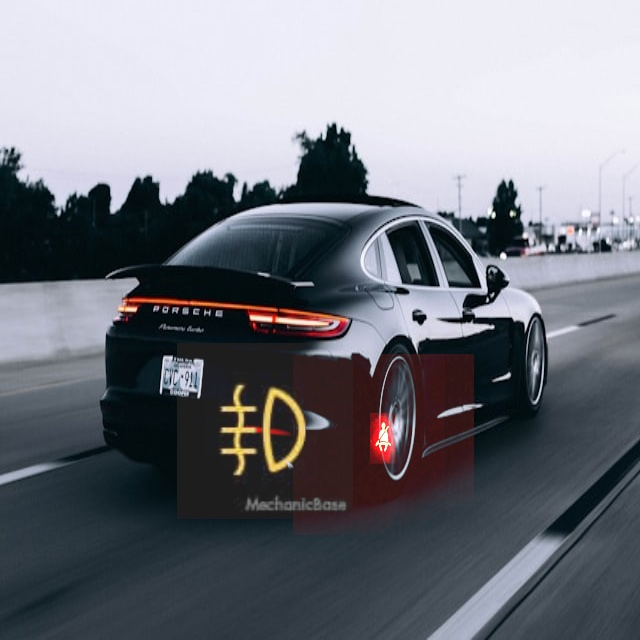symbol: (293, 354, 474, 535), (177, 343, 353, 519)
